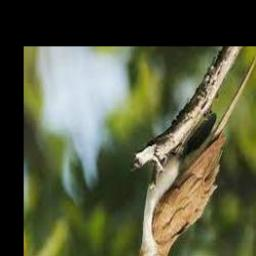Cuckoo: (124, 49, 256, 256)
